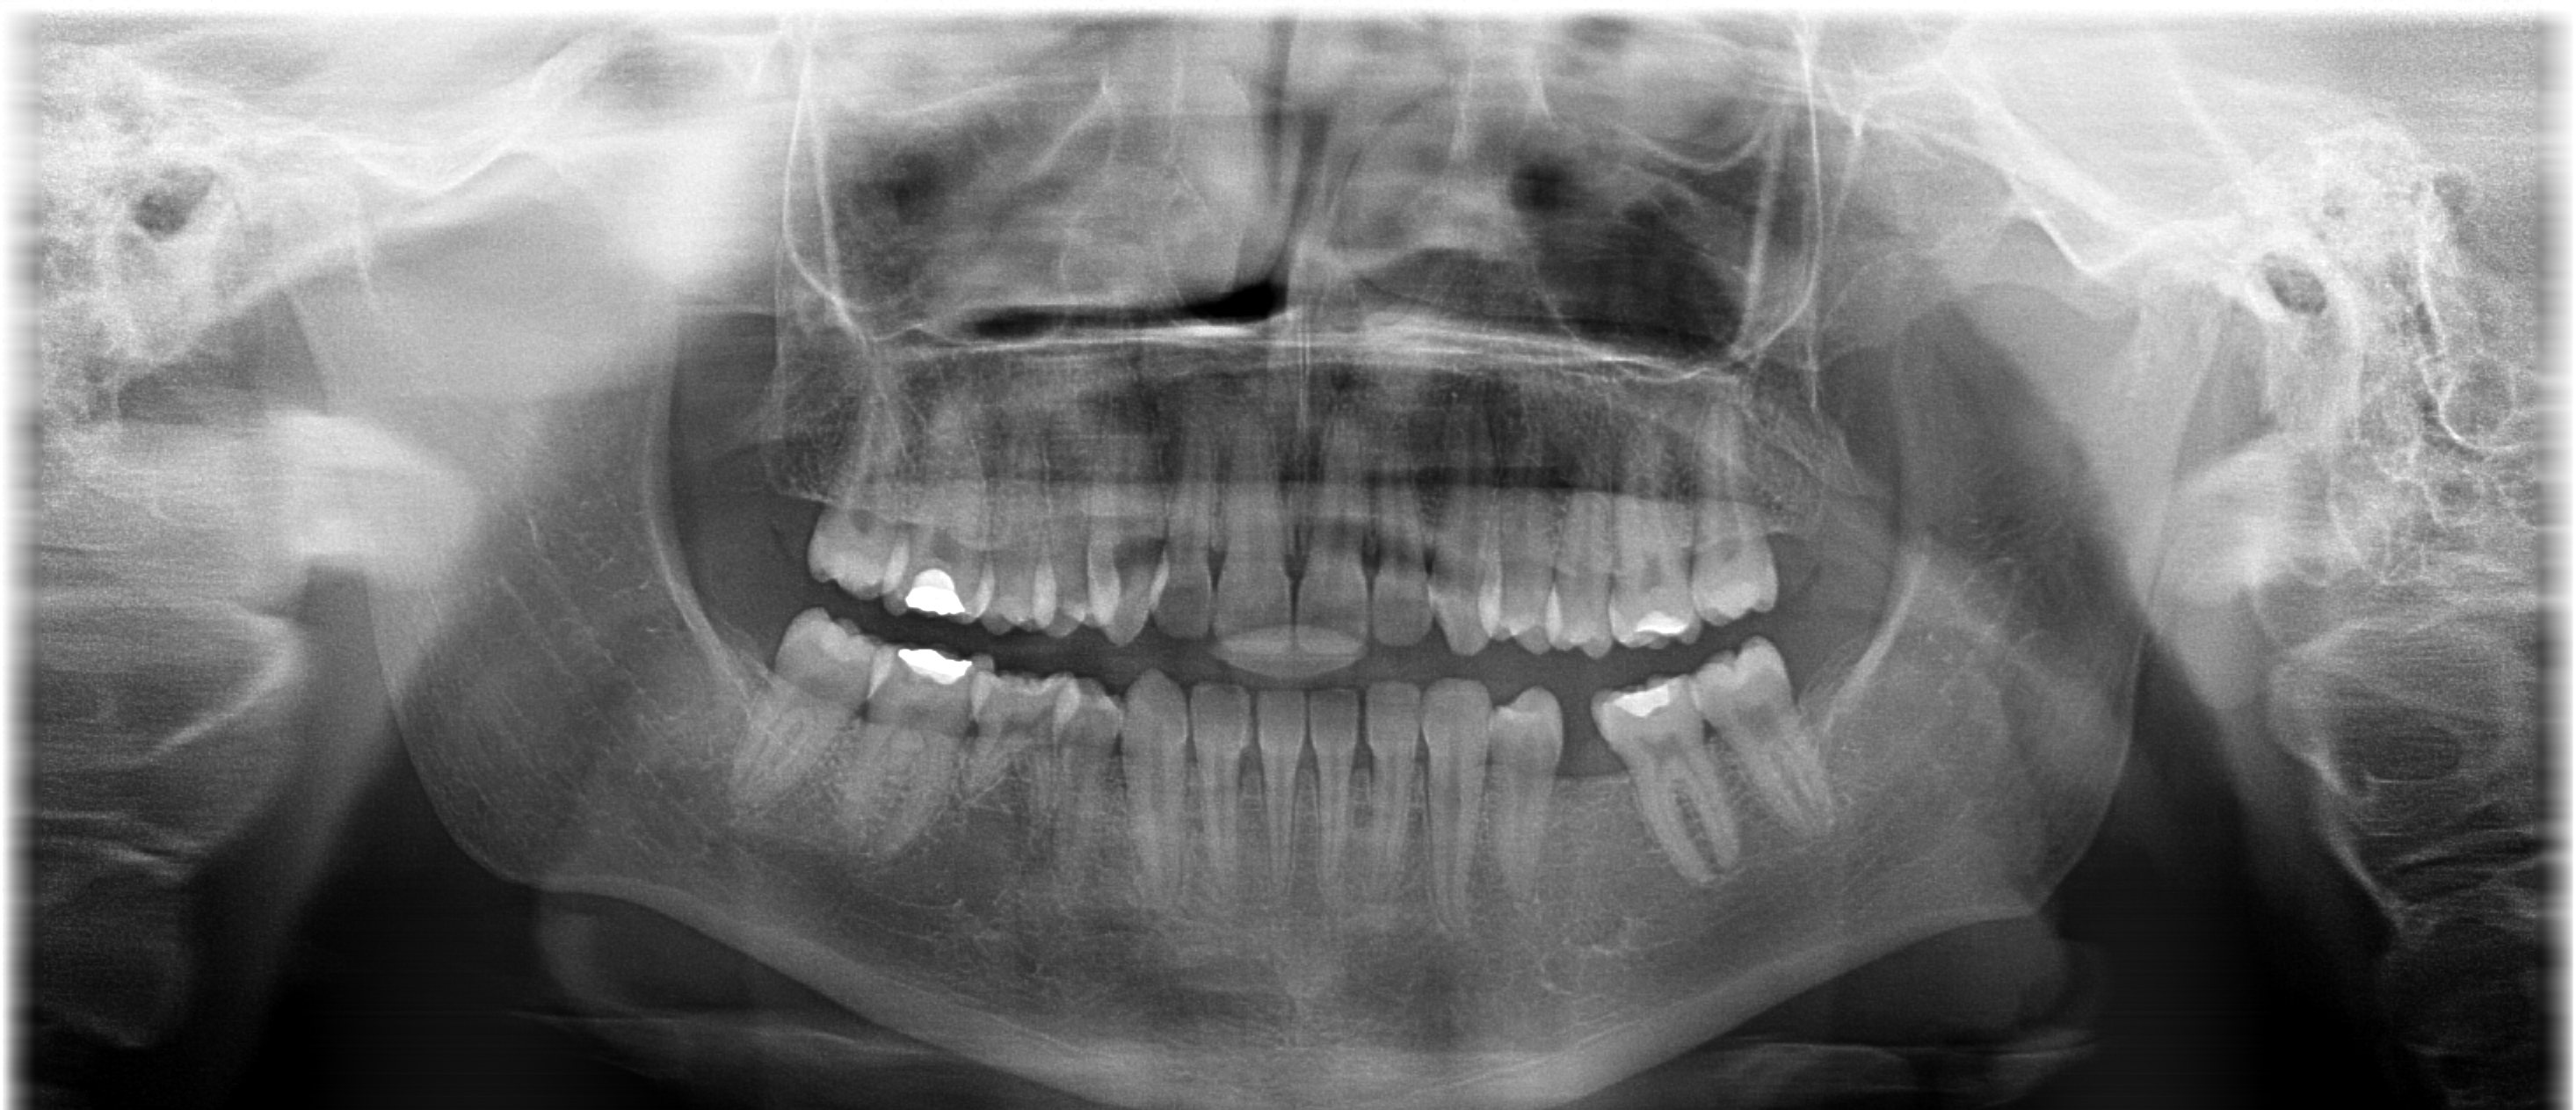apinamiento: (922, 652, 1137, 768)
cordal: (708, 585, 894, 832)
diastema: (1525, 675, 1644, 852)
